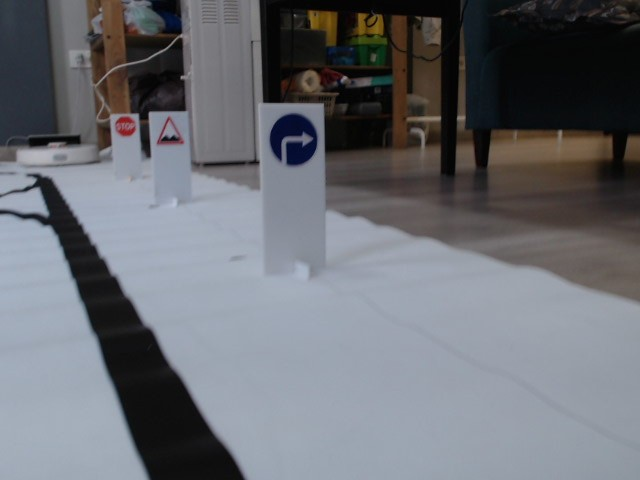Nerov: (155, 115, 184, 147)
Right: (268, 112, 318, 167)
Stop: (113, 116, 136, 137)
